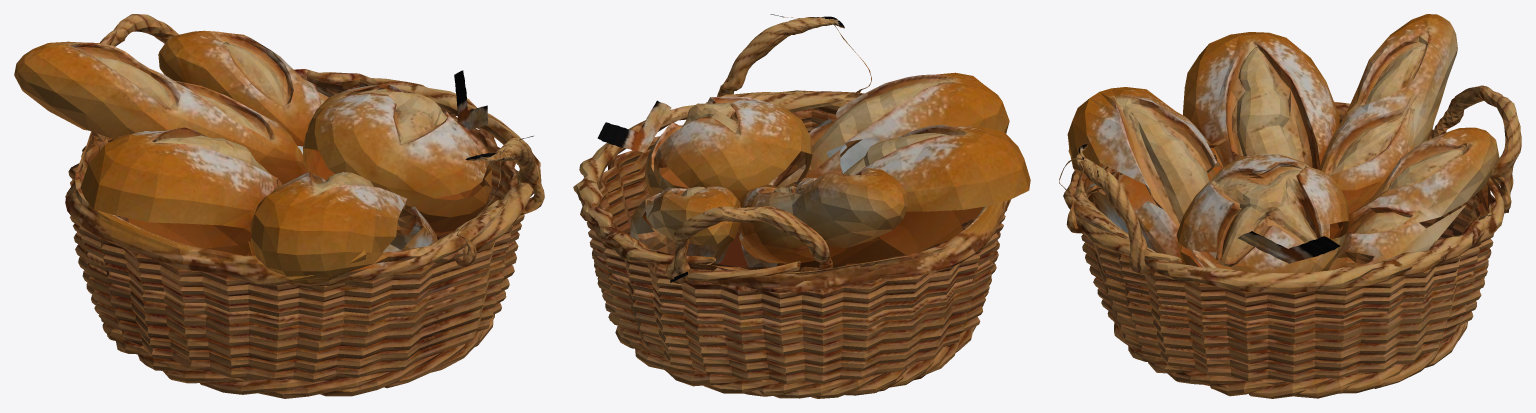
File: bread+loaves+3d+model.glb
3 views of the same model, side by side, from view 1: azimuth 30°, elevation 25°; view 2: azimuth 150°, elevation 25°; view 3: azimuth 270°, elevation 25° (orthographic). The views are drawn at different scales.
Visible parts, largest first — view 1: tripo_node_bcff3074-b4e1-4c28-af1e-7578960f4fab; view 2: tripo_node_bcff3074-b4e1-4c28-af1e-7578960f4fab; view 3: tripo_node_bcff3074-b4e1-4c28-af1e-7578960f4fab.
Boxes of the visible parts, bbox=[...] form: tripo_node_bcff3074-b4e1-4c28-af1e-7578960f4fab: bbox=[14, 14, 544, 398]; tripo_node_bcff3074-b4e1-4c28-af1e-7578960f4fab: bbox=[573, 14, 1030, 398]; tripo_node_bcff3074-b4e1-4c28-af1e-7578960f4fab: bbox=[1059, 14, 1521, 398].
Bounding box in the file's own units: 0.9843 × 0.5577 × 0.9961.
Materials: 1 (1 with a texture image).
